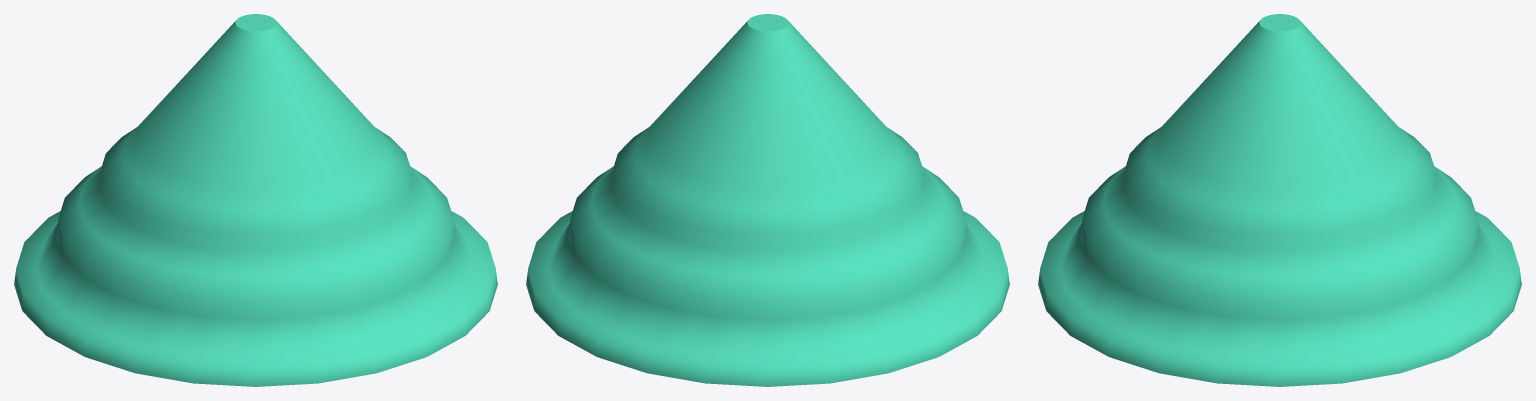
The model's file is spiralglass.FBX.
3 views of the same model, side by side, from view 1: azimuth 30°, elevation 25°; view 2: azimuth 150°, elevation 25°; view 3: azimuth 270°, elevation 25° (orthographic).
Visible parts, largest first — view 1: spiralroof001; view 2: spiralroof001; view 3: spiralroof001.
Part boxes in pixels (x1,y1,x2,y2): spiralroof001: (14, 14, 497, 386); spiralroof001: (526, 14, 1009, 386); spiralroof001: (1038, 14, 1521, 386).
Bounding box in the file's own units: 17.88 × 10.68 × 17.88.
